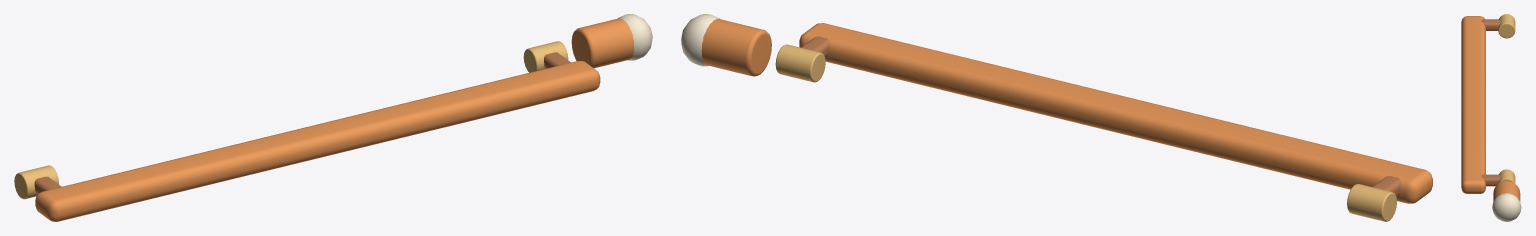
Rendered from release_gate.glb.
3 renders of one model, left to right at view 1: azimuth 30°, elevation 25°; view 2: azimuth 150°, elevation 25°; view 3: azimuth 270°, elevation 25°, orthographic. The views are drawn at different scales.
Visible parts, largest first — view 1: release_gate_mesh; view 2: release_gate_mesh; view 3: release_gate_mesh.
Boxes of the visible parts, x1,y1,x2,y2 form: release_gate_mesh: [14, 14, 652, 221]; release_gate_mesh: [681, 14, 1432, 221]; release_gate_mesh: [1461, 14, 1521, 221].
Size of the model in its own units: 3.73 by 0.24 by 0.49.
